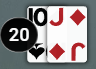10: (27, 6, 48, 28)
j: (48, 6, 66, 28)
